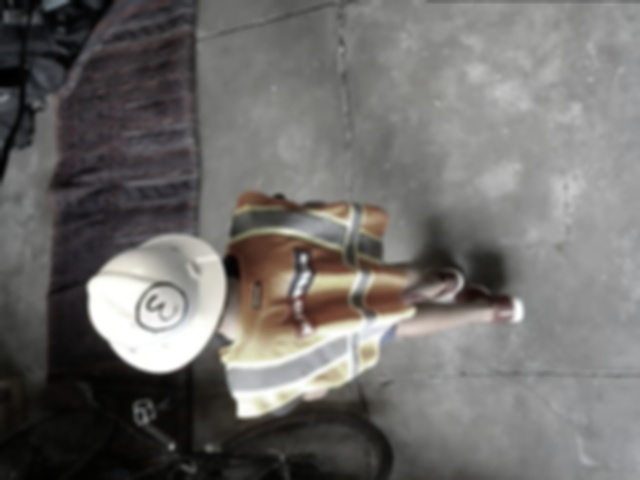three: (136, 280, 188, 333)
